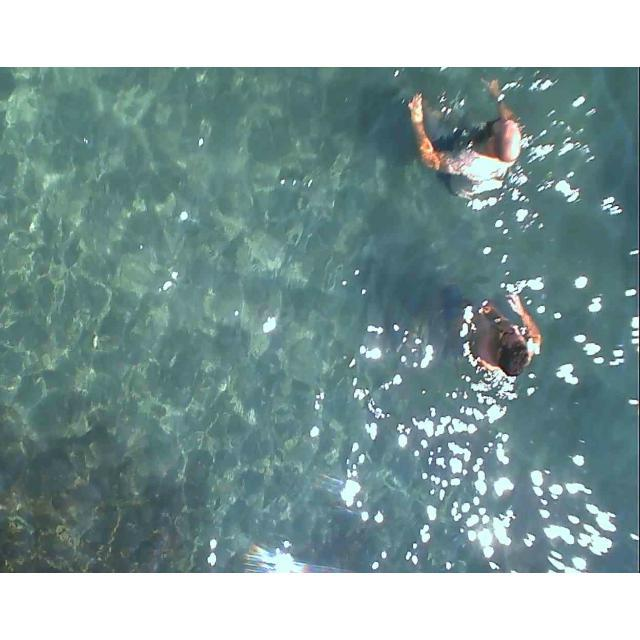human: (420, 81, 554, 228), (467, 284, 540, 397)
